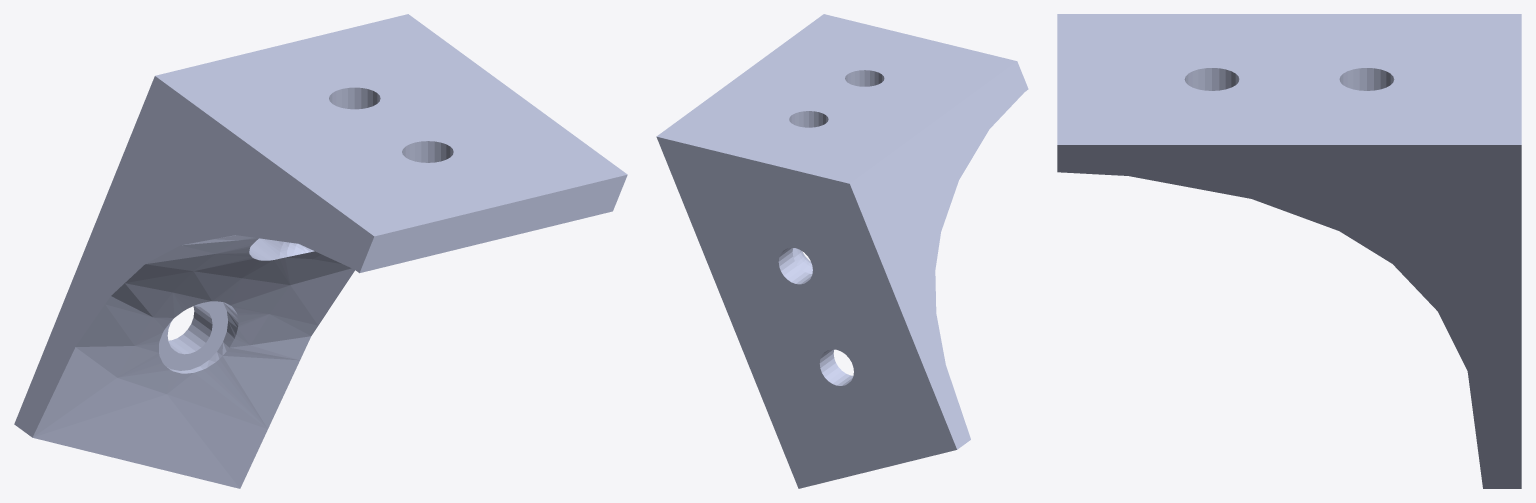
The model's file is Angled_Stiffener_01_Angled_Stiffener.obj.
3 views of the same model, side by side, from view 1: azimuth 30°, elevation 25°; view 2: azimuth 150°, elevation 25°; view 3: azimuth 270°, elevation 25° (orthographic). The views are drawn at different scales.
Bounding box in the file's own units: 0.0395 × 0.0399 × 0.0381.
